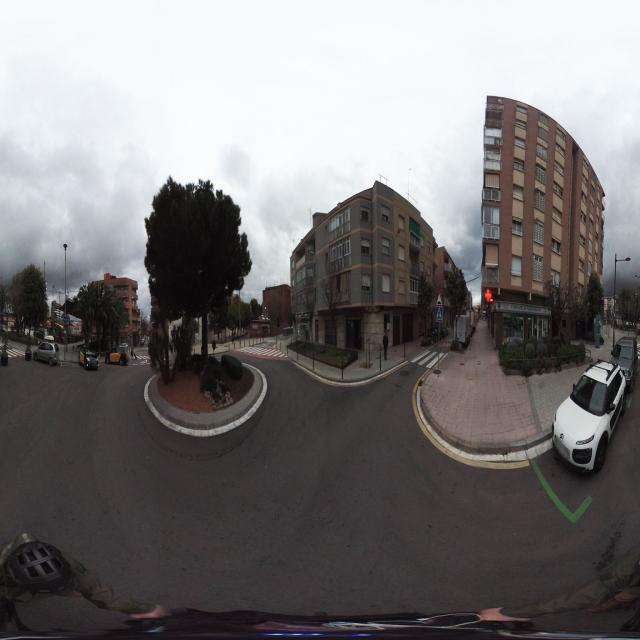forb_stopping: (63, 323, 67, 331)
